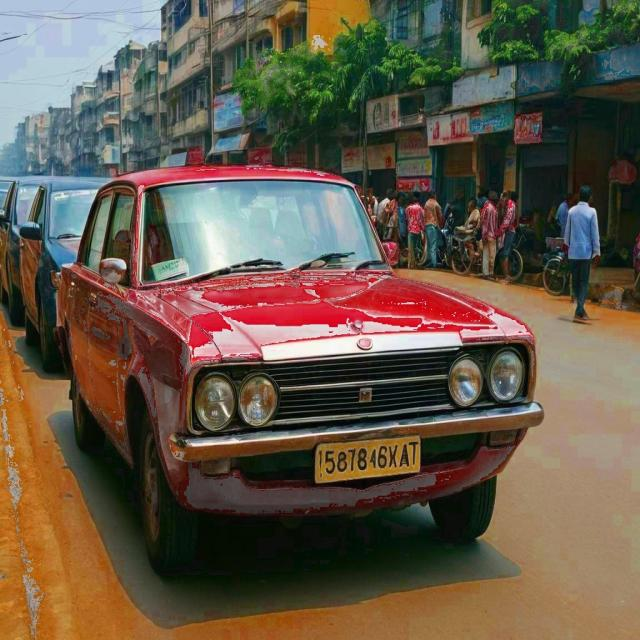maroon: (63, 149, 543, 569)
